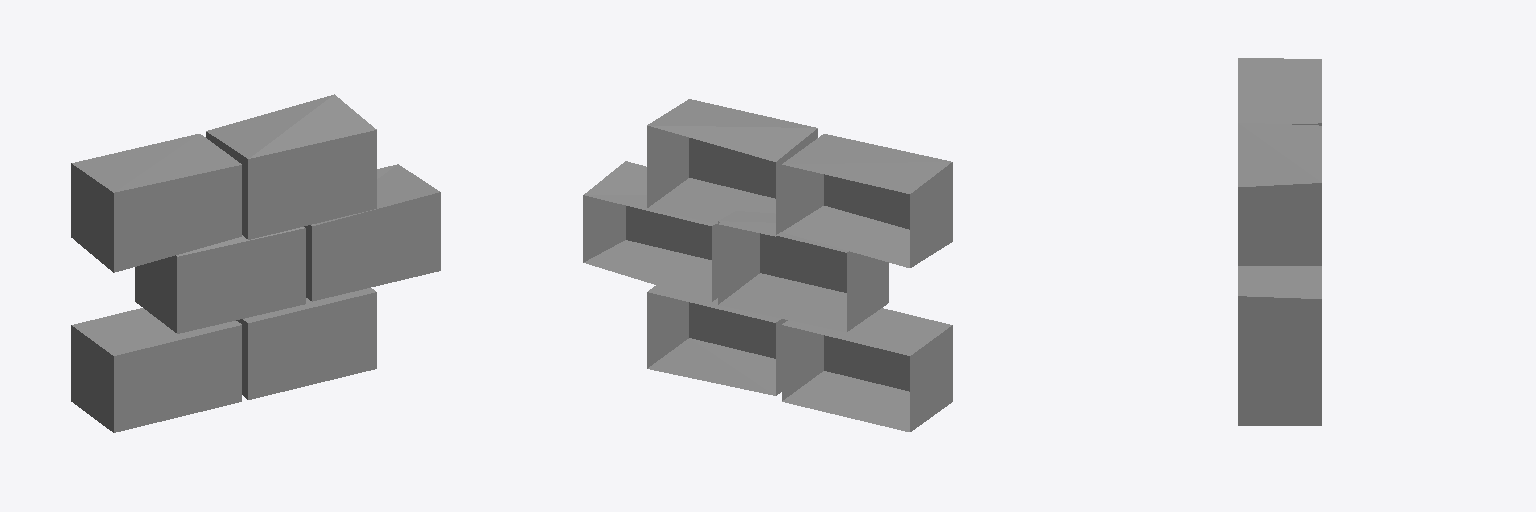
File: Bricks_Small.obj
3 renders of one model, left to right at view 1: azimuth 30°, elevation 25°; view 2: azimuth 150°, elevation 25°; view 3: azimuth 270°, elevation 25°, orthographic.
Visible parts, largest first — view 1: Bricks_Small_Cube.014; view 2: Bricks_Small_Cube.014; view 3: Bricks_Small_Cube.014.
Boxes of the visible parts, <box> form: Bricks_Small_Cube.014: <box>71,94,440,432</box>; Bricks_Small_Cube.014: <box>583,99,952,431</box>; Bricks_Small_Cube.014: <box>1238,58,1321,425</box>.
Size of the model in its own units: 0.6067 by 0.4318 by 0.1364.